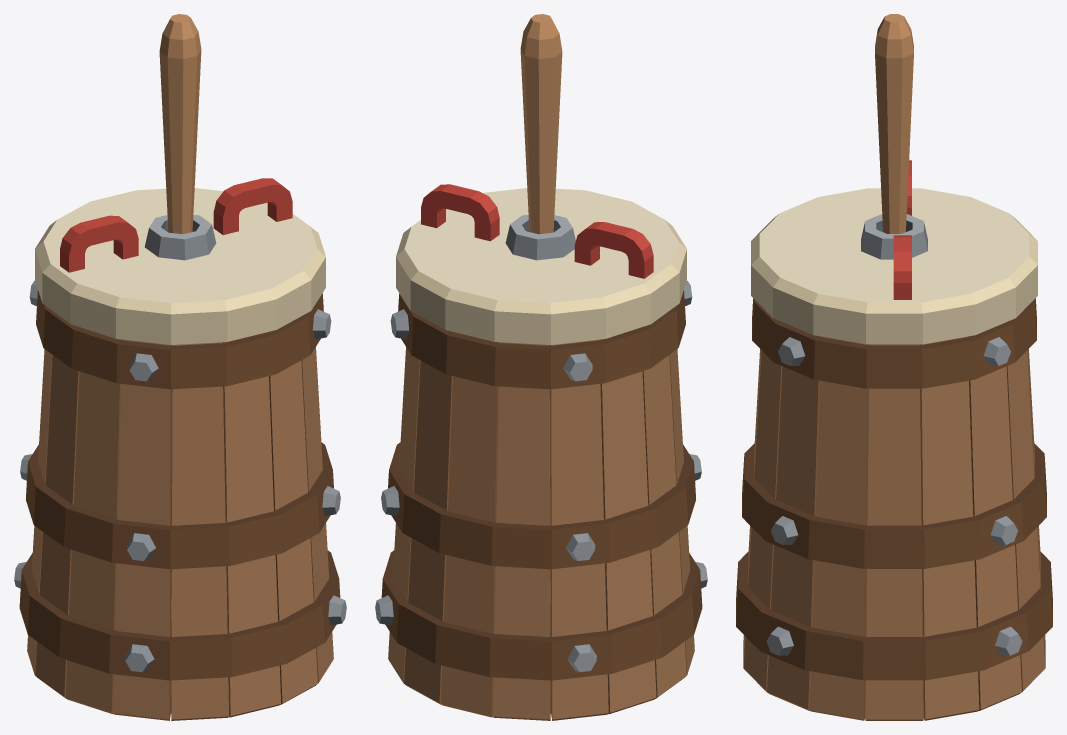
Rendered from FMS_Workshop_STA_03.fbx.
3 views of the same model, side by side, from view 1: azimuth 30°, elevation 25°; view 2: azimuth 150°, elevation 25°; view 3: azimuth 270°, elevation 25° (orthographic).
Parts seen in each view (by area): view 1: FMS_Workshop_STA_03_Body, FMS_Workshop_STA_03_Lid, FMS_Workshop_STA_03_Dasher; view 2: FMS_Workshop_STA_03_Body, FMS_Workshop_STA_03_Lid, FMS_Workshop_STA_03_Dasher; view 3: FMS_Workshop_STA_03_Body, FMS_Workshop_STA_03_Lid, FMS_Workshop_STA_03_Dasher.
Boxes of the visible parts, <box> form: FMS_Workshop_STA_03_Body: <box>14,280,346,720</box>; FMS_Workshop_STA_03_Lid: <box>35,178,325,344</box>; FMS_Workshop_STA_03_Dasher: <box>159,14,201,620</box>; FMS_Workshop_STA_03_Body: <box>375,280,707,720</box>; FMS_Workshop_STA_03_Lid: <box>396,184,686,344</box>; FMS_Workshop_STA_03_Dasher: <box>520,14,562,620</box>; FMS_Workshop_STA_03_Body: <box>736,298,1052,720</box>; FMS_Workshop_STA_03_Lid: <box>751,160,1037,344</box>; FMS_Workshop_STA_03_Dasher: <box>875,14,913,233</box>.
Size of what is drawn, in the model's own units: 0.4488 by 1 by 0.4488.
